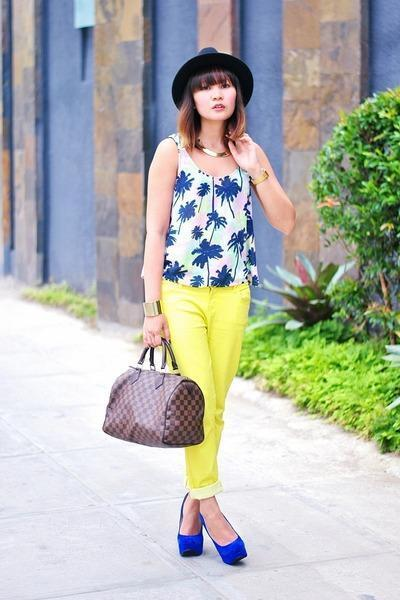bag: (102, 364, 203, 447)
hat: (172, 48, 252, 107)
pants: (162, 278, 251, 501)
shirt: (162, 134, 264, 287)
shoe: (178, 527, 246, 565)
